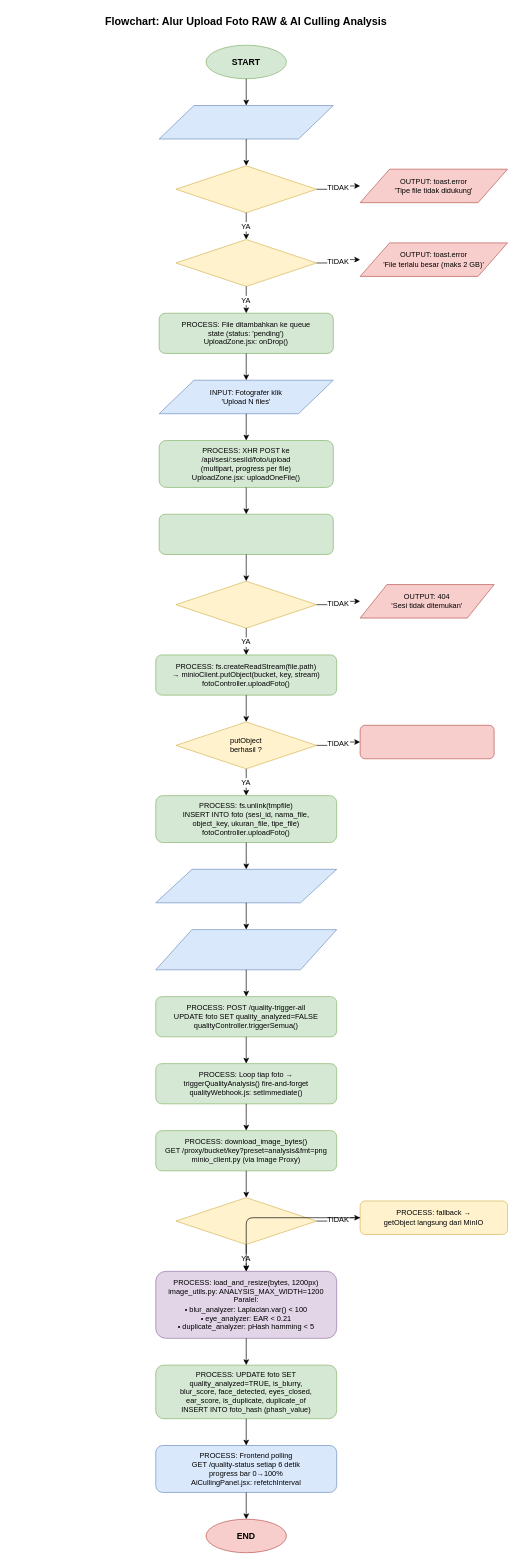
The diagram is 519 pixels wide and 1564 high, and some of its shapes have lost their labels. Each missing label, with the box of its shape:
INPUT: Fotografer drag & drop file ke UploadZone.jsx: (158, 105, 333, 139)
INPUT: Fotografer klik RE-ANALYZE ALL AiCullingPanel.jsx: (155, 929, 337, 970)
MIME type sesuai /^image\// ?: (175, 165, 317, 213)
OUTPUT: res.json {berhasil, gagal, uploaded[], failed[]}: (155, 869, 337, 903)
PROCESS: fs.unlinkSync(tmpfile) push ke failed[]: (359, 725, 494, 759)
PROCESS: multer diskStorage → tulis ke os.tmpdir() sesiRoutes.js (multer config): (158, 514, 333, 554)
Proxy OK & data > 1000 bytes ?: (175, 1197, 317, 1245)
Sesi milik fotografer ini ?: (175, 581, 317, 628)
Ukuran file ≤ 2GB ?: (175, 239, 317, 286)
